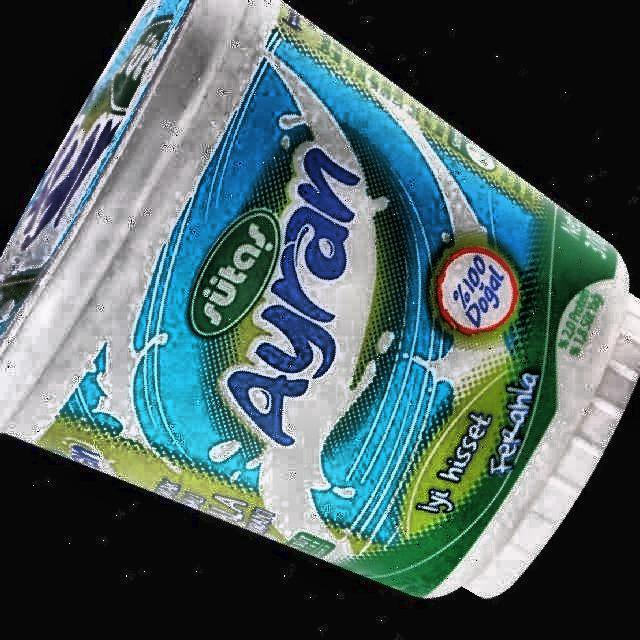plastic: (0, 0, 640, 597)
